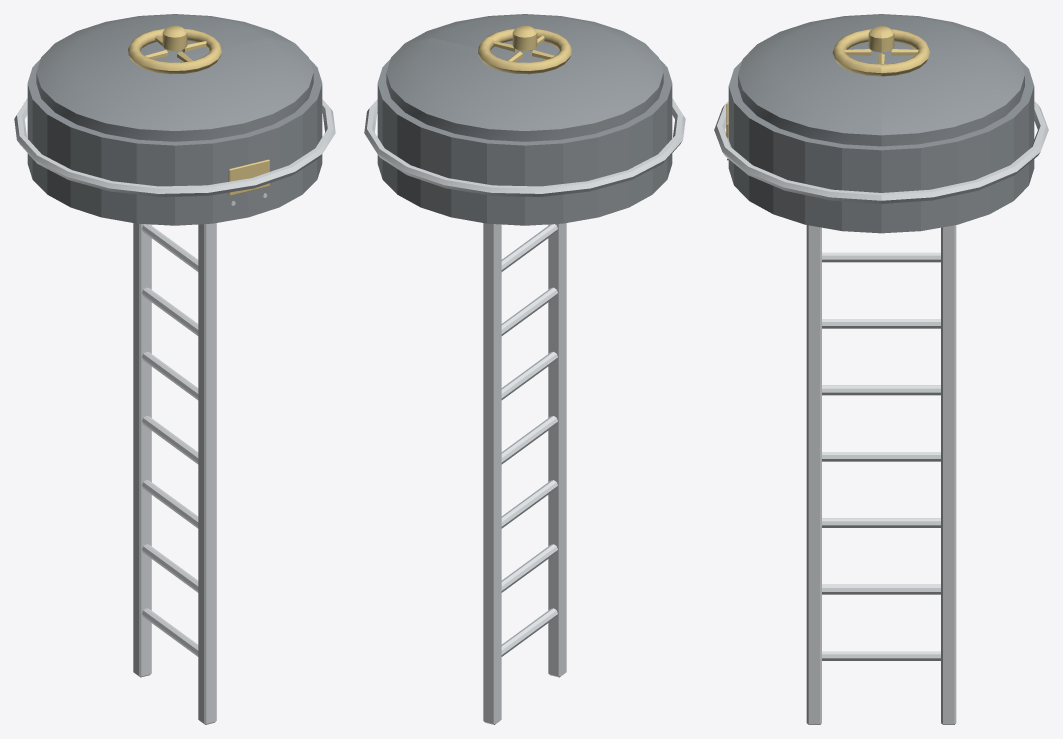
Rendered from submarine-interior-and-control-room-overhead-hatch-and-77c0778f__36470.glb.
3 renders of one model, left to right at view 1: azimuth 30°, elevation 25°; view 2: azimuth 150°, elevation 25°; view 3: azimuth 270°, elevation 25°, orthographic. The views are drawn at different scales.
Visible parts, largest first — view 1: overhead-hatch-and-ladder, hatch/hull, hatch/brass; view 2: overhead-hatch-and-ladder, hatch/hull, hatch/brass; view 3: overhead-hatch-and-ladder, hatch/hull, hatch/brass.
Boxes of the visible parts, left/top/right/bottom form: overhead-hatch-and-ladder: left=14, top=59, right=335, bottom=724; hatch/hull: left=36, top=14, right=313, bottom=141; hatch/brass: left=128, top=25, right=221, bottom=74; overhead-hatch-and-ladder: left=364, top=59, right=685, bottom=724; hatch/hull: left=386, top=14, right=663, bottom=141; hatch/brass: left=478, top=25, right=571, bottom=74; overhead-hatch-and-ladder: left=714, top=61, right=1048, bottom=724; hatch/hull: left=738, top=14, right=1024, bottom=146; hatch/brass: left=832, top=26, right=930, bottom=76.
Size of the model in its own units: 1.1 by 2.5 by 1.1.
